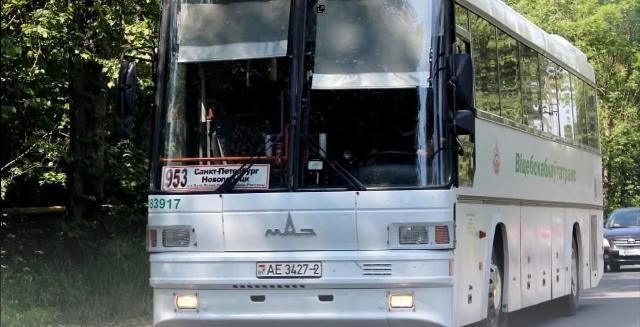bus: (102, 0, 605, 327)
car: (600, 201, 640, 278)
